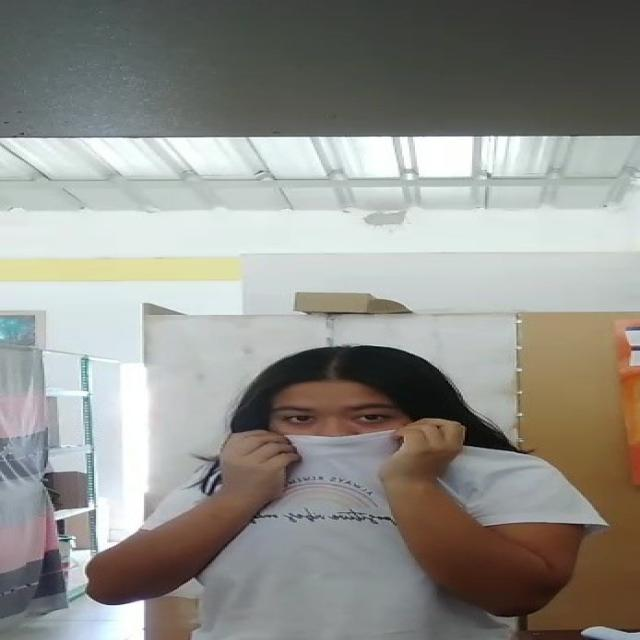8_ropa_rostro: (211, 418, 470, 516)
